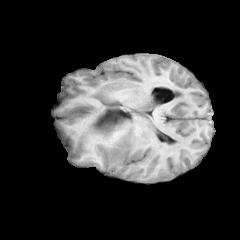glioma: (90, 104, 135, 167)
